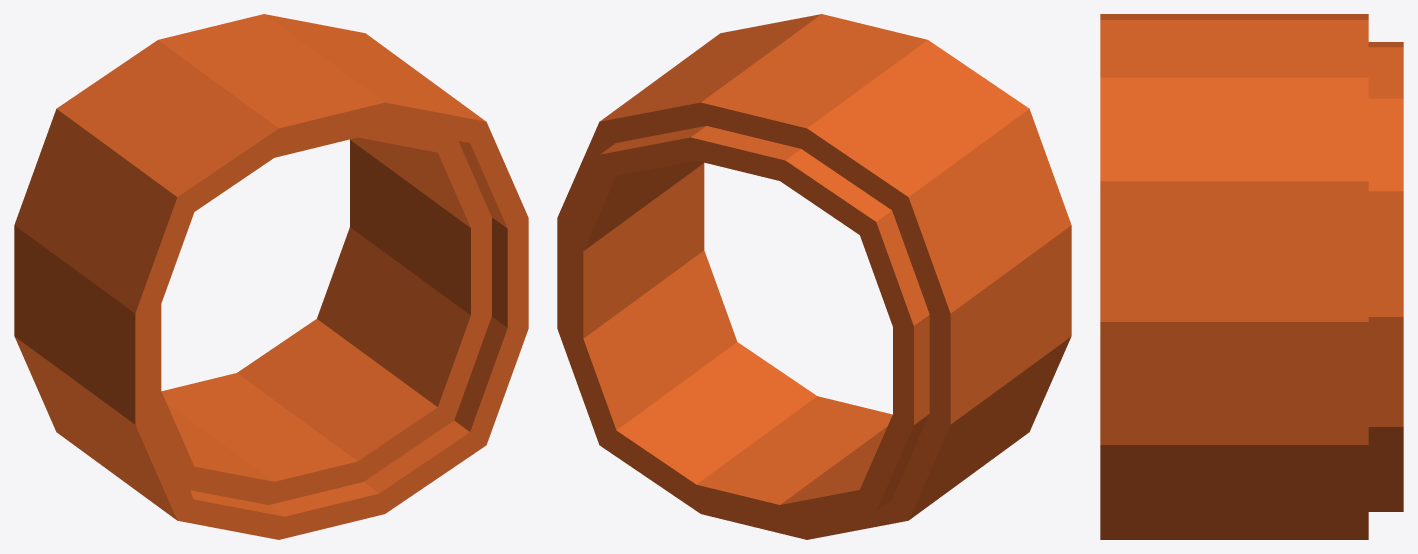
3 renders of one model, left to right at view 1: azimuth 30°, elevation 25°; view 2: azimuth 150°, elevation 25°; view 3: azimuth 270°, elevation 25°, orthographic. The views are drawn at different scales.
Visible parts, largest first — view 1: I-37; view 2: I-37; view 3: I-37.
Part boxes in pixels (x1=…): I-37: x1=14, y1=14, x2=528, y2=539; I-37: x1=557, y1=14, x2=1071, y2=539; I-37: x1=1100, y1=14, x2=1403, y2=539.
Bounding box in the file's own units: 143 × 143 × 86.05.
